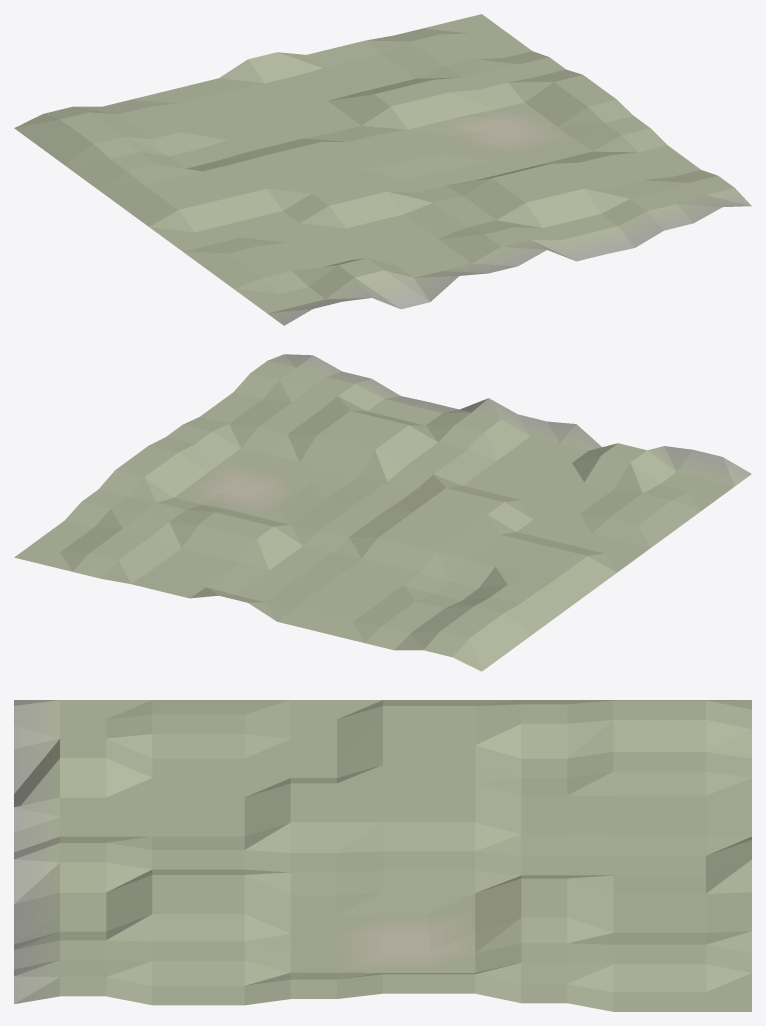
The picture shows the model from 3 angles, top to bottom: view 1: azimuth 30°, elevation 25°; view 2: azimuth 150°, elevation 25°; view 3: azimuth 270°, elevation 25°; orthographic projection. The views are drawn at different scales.
Size of the model in its own units: 32 by 1.74 by 32.
